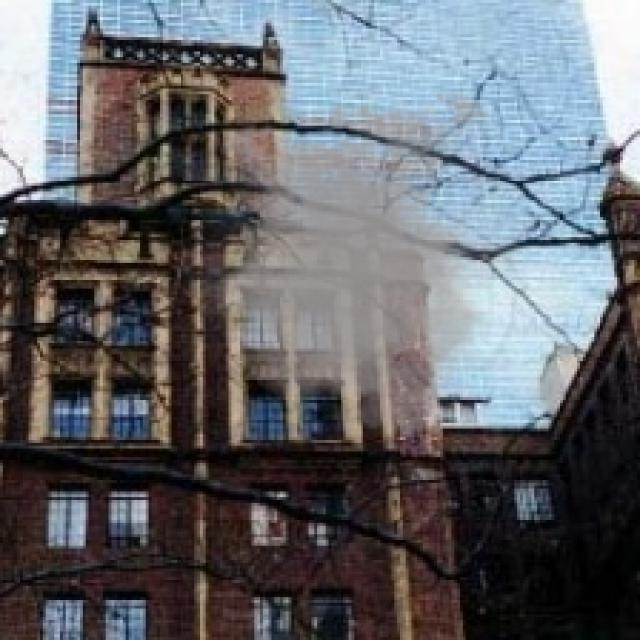Smoke: (166, 80, 543, 440)
